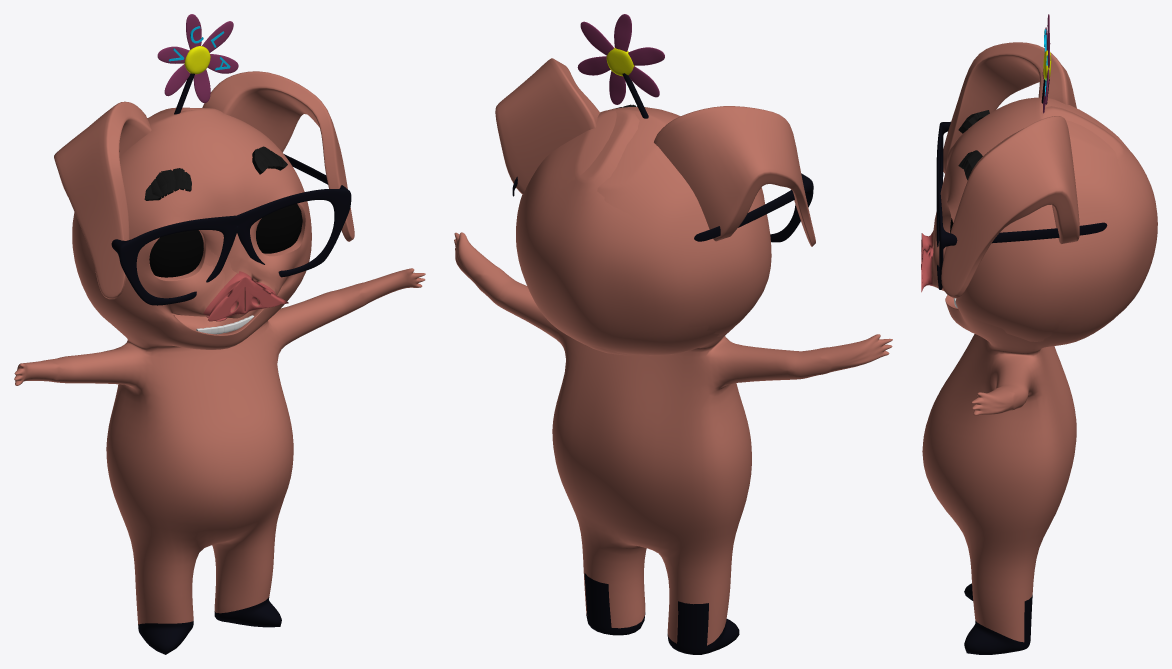
The model's file is pig2.fbx.
3 views of the same model, side by side, from view 1: azimuth 30°, elevation 25°; view 2: azimuth 150°, elevation 25°; view 3: azimuth 270°, elevation 25° (orthographic). The views are drawn at different scales.
Parts seen in each view (by area): view 1: pCube10, polySurface5, polySurface3, pCube15, pSphere2, pSphere1, polySurface7, polySurface6; view 2: pCube10, polySurface5, polySurface3, pCube15; view 3: pCube10, polySurface3, polySurface5, pCube15.
Part boxes in pixels (bbox=[...]): pCube10: bbox=[14, 107, 425, 654]; polySurface5: bbox=[54, 101, 151, 299]; polySurface3: bbox=[202, 71, 354, 241]; pCube15: bbox=[111, 154, 351, 305]; pSphere2: bbox=[149, 230, 203, 277]; pSphere1: bbox=[256, 203, 302, 253]; polySurface7: bbox=[144, 168, 191, 200]; polySurface6: bbox=[252, 146, 287, 174]; pCube10: bbox=[454, 107, 892, 654]; polySurface5: bbox=[654, 106, 815, 246]; polySurface3: bbox=[495, 58, 599, 194]; pCube15: bbox=[512, 173, 813, 242]; pCube10: bbox=[921, 97, 1157, 654]; polySurface3: bbox=[941, 116, 1079, 298]; polySurface5: bbox=[943, 42, 1076, 173]; pCube15: bbox=[936, 121, 1107, 289].
Bounding box in the file's own units: 3.53 × 4.91 × 1.71.
